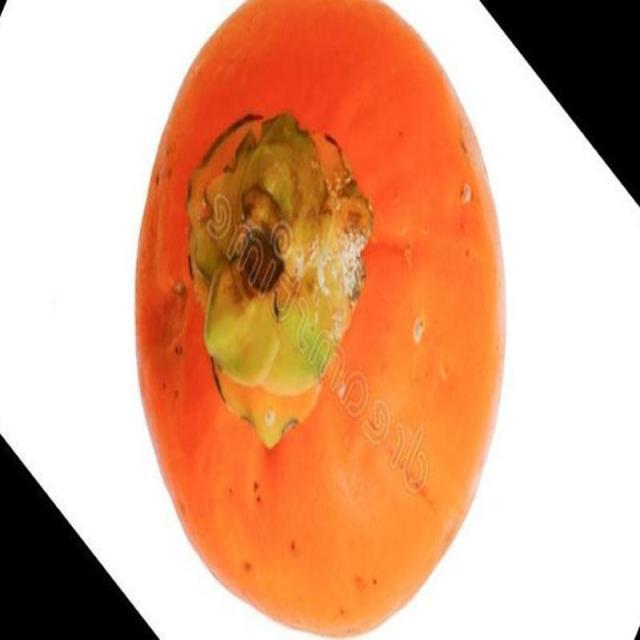good: (138, 30, 509, 638)
